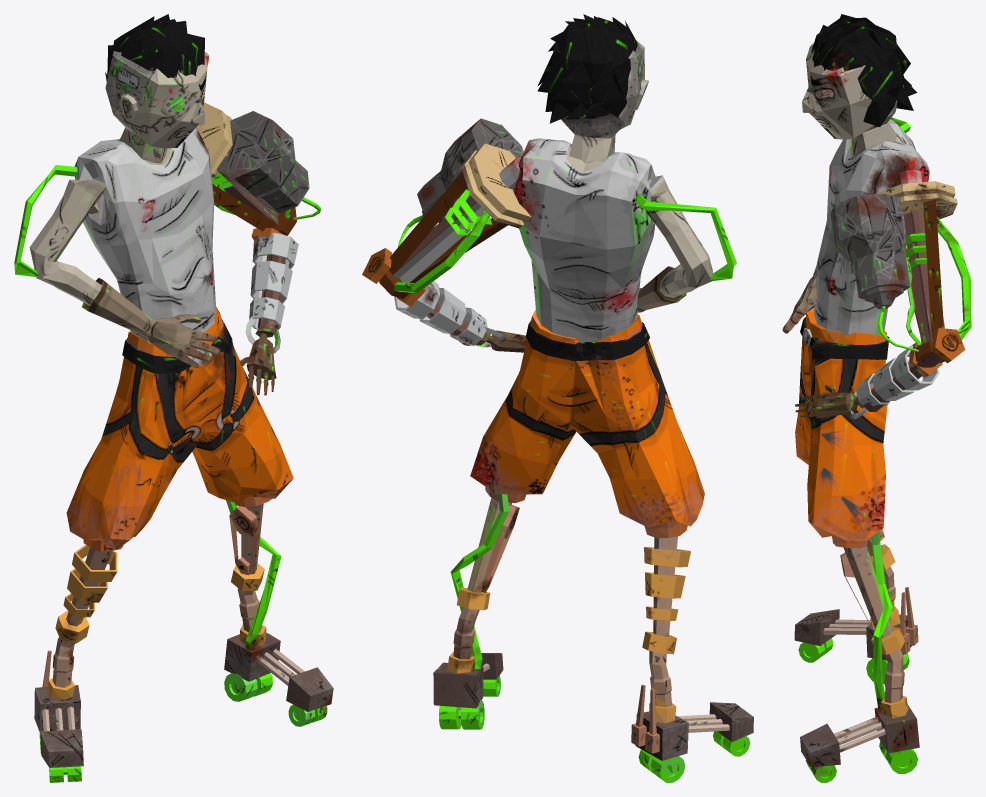
Rendered from CyborgFINALAnimation_000065.obj.
The picture shows the model from 3 angles, left to right: view 1: azimuth 30°, elevation 25°; view 2: azimuth 150°, elevation 25°; view 3: azimuth 270°, elevation 25°; orthographic projection. The views are drawn at different scales.
Visible parts, largest first — view 1: CyborgMesh_Cube.002; view 2: CyborgMesh_Cube.002; view 3: CyborgMesh_Cube.002.
Part boxes in pixels (box(x1,y1,x2,y2)): CyborgMesh_Cube.002: box(14, 14, 333, 782); CyborgMesh_Cube.002: box(362, 14, 753, 782); CyborgMesh_Cube.002: box(782, 14, 971, 782).
Size of the model in its own units: 4.52 by 9.6 by 2.36.
